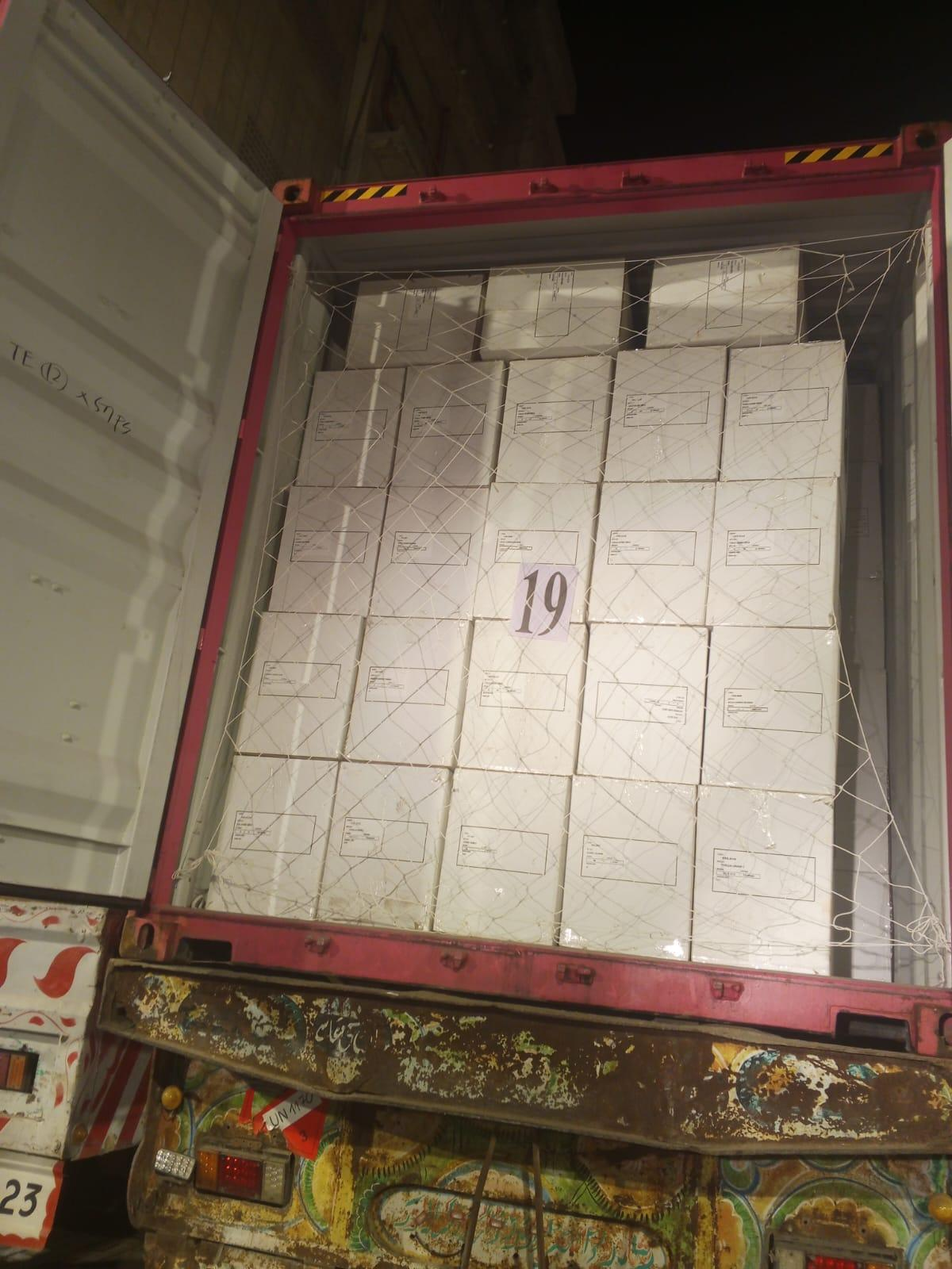carton: (692, 787, 835, 974), (560, 778, 696, 960), (702, 627, 841, 799), (434, 770, 570, 945), (317, 763, 449, 931), (205, 757, 339, 920), (578, 624, 708, 784), (457, 619, 586, 776), (707, 477, 841, 627), (345, 617, 472, 768), (236, 611, 363, 759), (589, 482, 716, 625), (720, 339, 846, 481), (474, 481, 599, 622), (603, 344, 727, 484), (370, 485, 488, 619), (647, 246, 800, 347), (496, 354, 613, 485), (271, 485, 387, 615), (481, 259, 627, 361), (393, 359, 508, 488), (345, 274, 486, 370), (297, 368, 405, 489)
